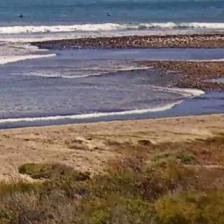surfer: (106, 13, 111, 18), (19, 14, 23, 19)
